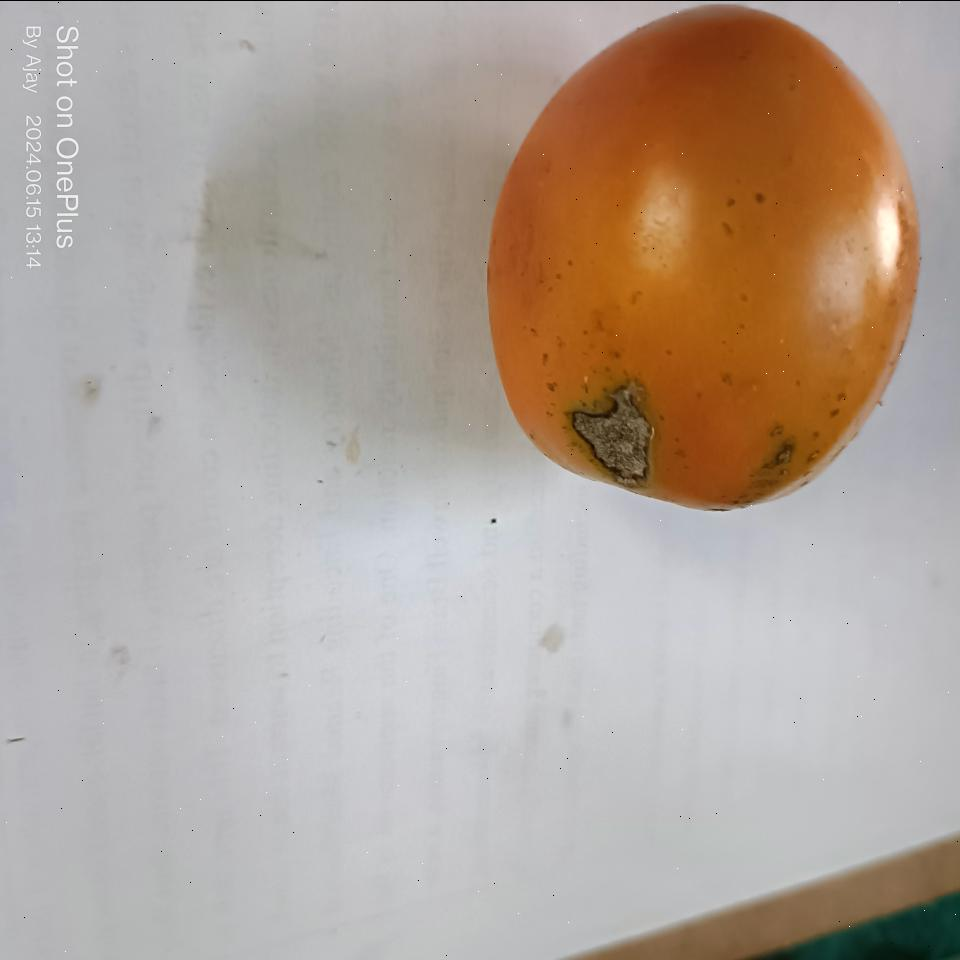Bacterial_Spot: (574, 379, 654, 497), (753, 420, 816, 487)
